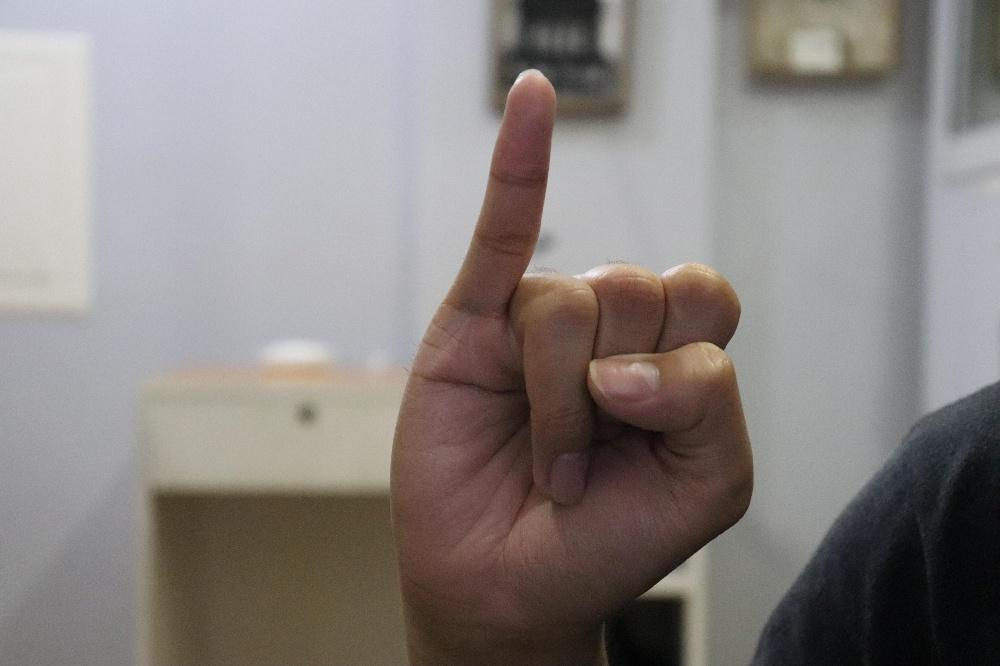i: (389, 66, 753, 640)
